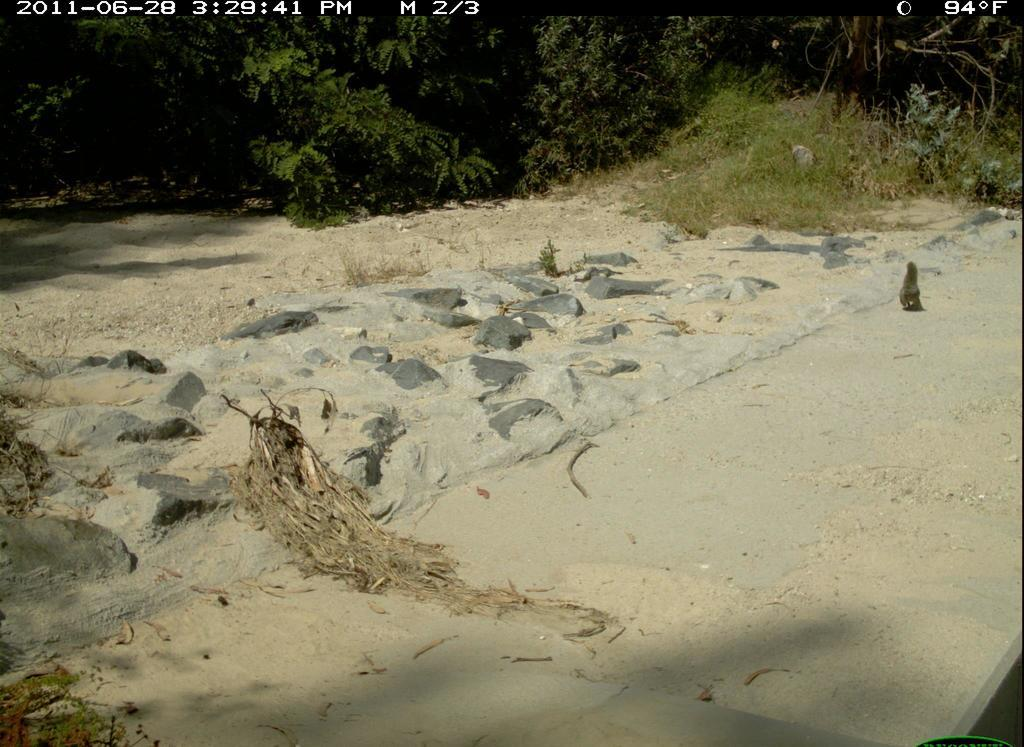squirrel: (895, 255, 934, 317)
